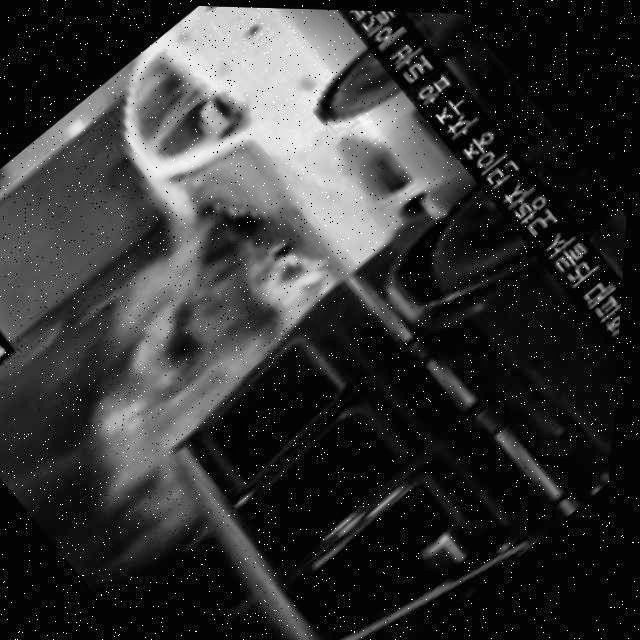Fire: (27, 182, 365, 501)
